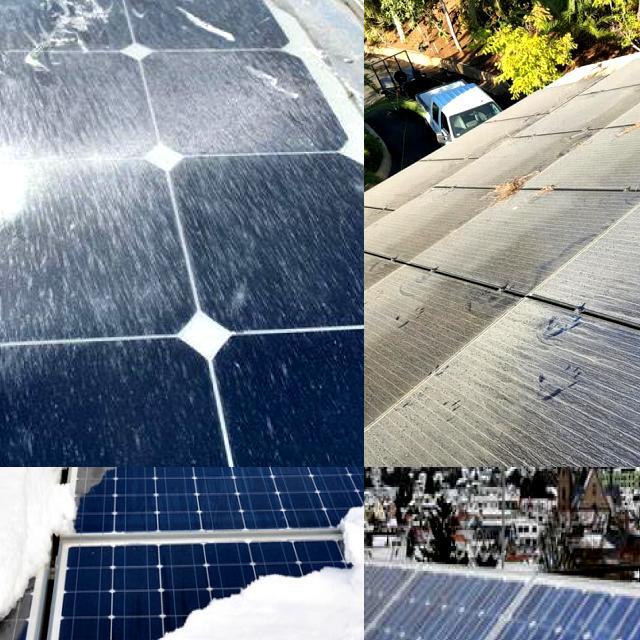bird: (0, 0, 215, 72), (0, 9, 38, 45)
dust: (427, 362, 640, 467), (451, 197, 601, 277), (364, 293, 499, 372), (546, 76, 640, 143), (567, 126, 640, 183), (364, 207, 421, 278)
panel: (81, 546, 364, 640), (0, 487, 65, 640), (109, 467, 309, 512), (16, 467, 159, 517), (88, 467, 288, 488), (0, 467, 72, 493)
